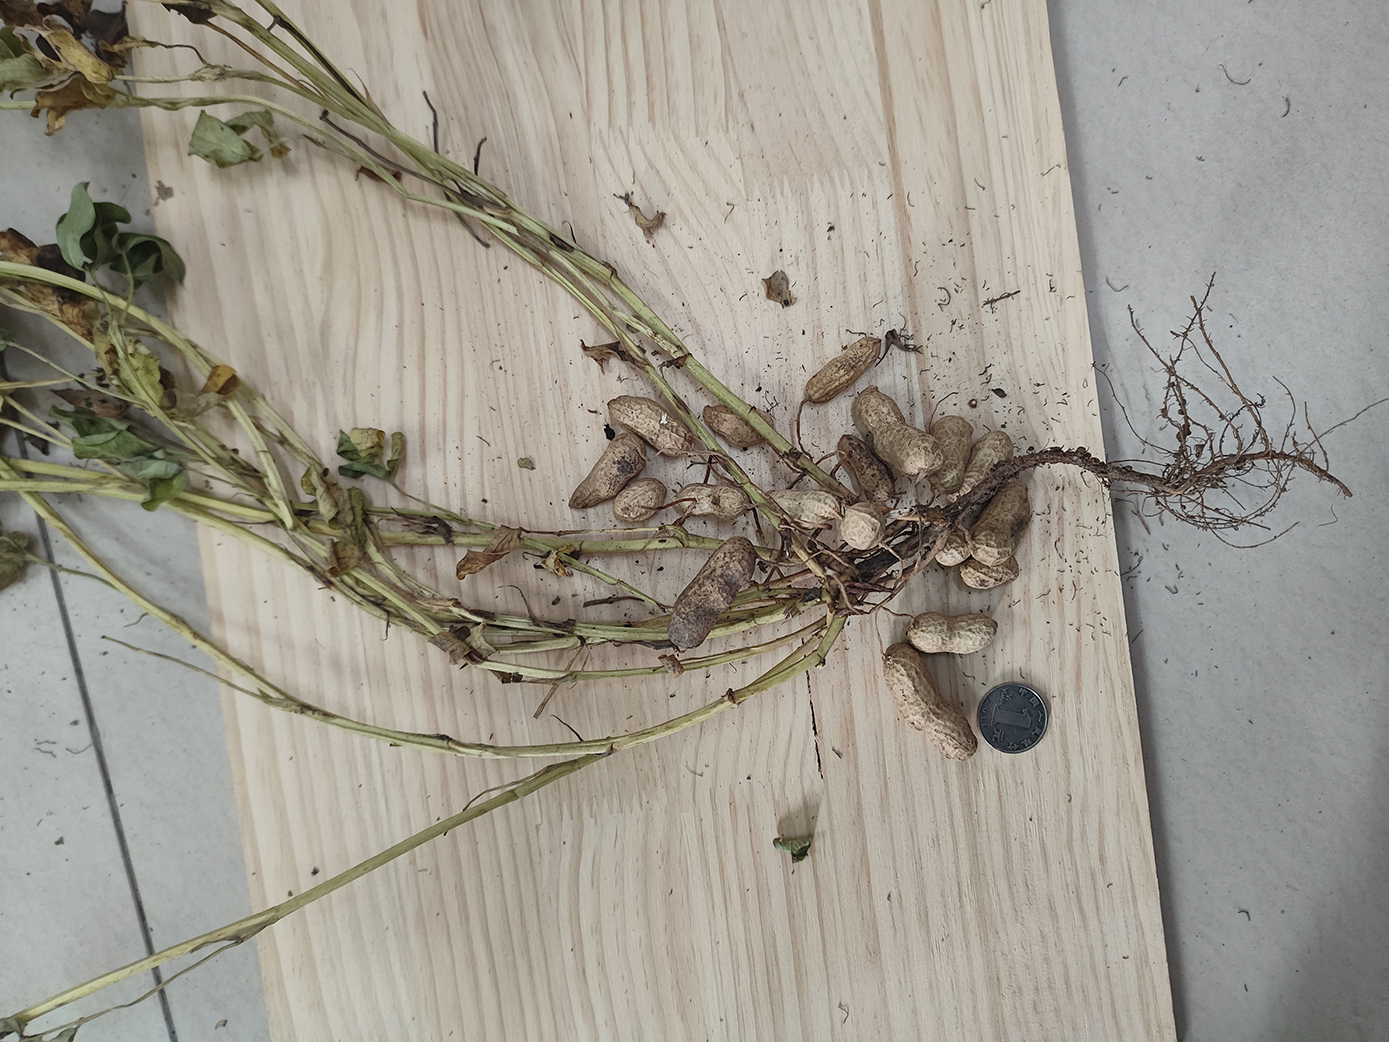h: (884, 642, 979, 762), (854, 386, 944, 478), (567, 433, 647, 507), (609, 396, 693, 458), (947, 432, 1012, 510), (971, 482, 1031, 565), (807, 338, 882, 402), (908, 611, 998, 655), (838, 435, 892, 499), (702, 404, 773, 450), (933, 416, 974, 493), (767, 489, 840, 531), (671, 484, 750, 518), (613, 479, 667, 522), (841, 503, 884, 552), (961, 557, 1020, 590), (933, 526, 973, 566)
l: (668, 539, 755, 649)
